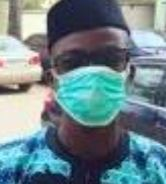with_facemask: (58, 71, 131, 129)
